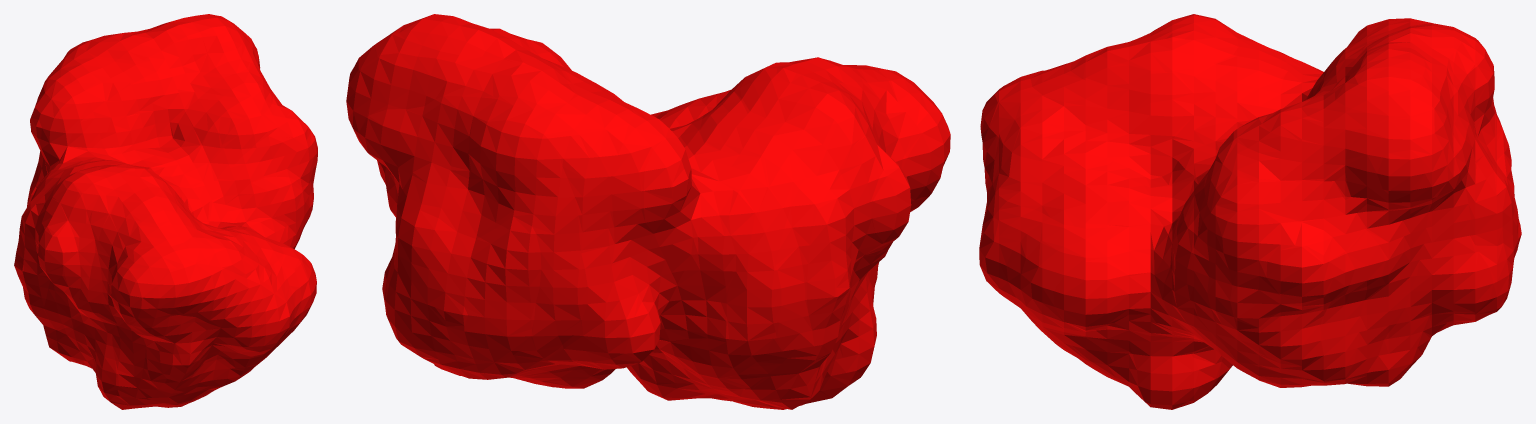
File: dapA_coarse.dae
3 views of the same model, side by side, from view 1: azimuth 30°, elevation 25°; view 2: azimuth 150°, elevation 25°; view 3: azimuth 270°, elevation 25° (orthographic). The views are drawn at different scales.
Visible parts, largest first — view 1: dapA; view 2: dapA; view 3: dapA.
Part boxes in pixels (bbox=[...]): dapA: bbox=[14, 14, 317, 409]; dapA: bbox=[346, 14, 950, 409]; dapA: bbox=[979, 14, 1521, 409].
Bounding box in the file's own units: 67.5 × 59.56 × 75.06.
